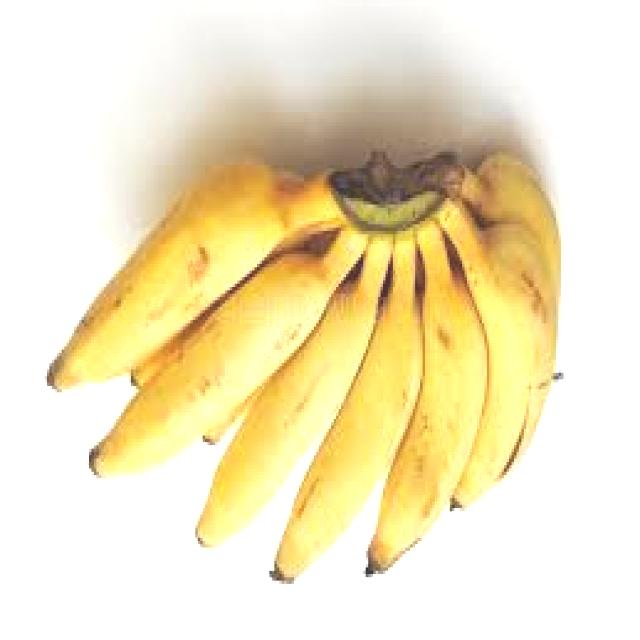Banana: (47, 148, 566, 588)
